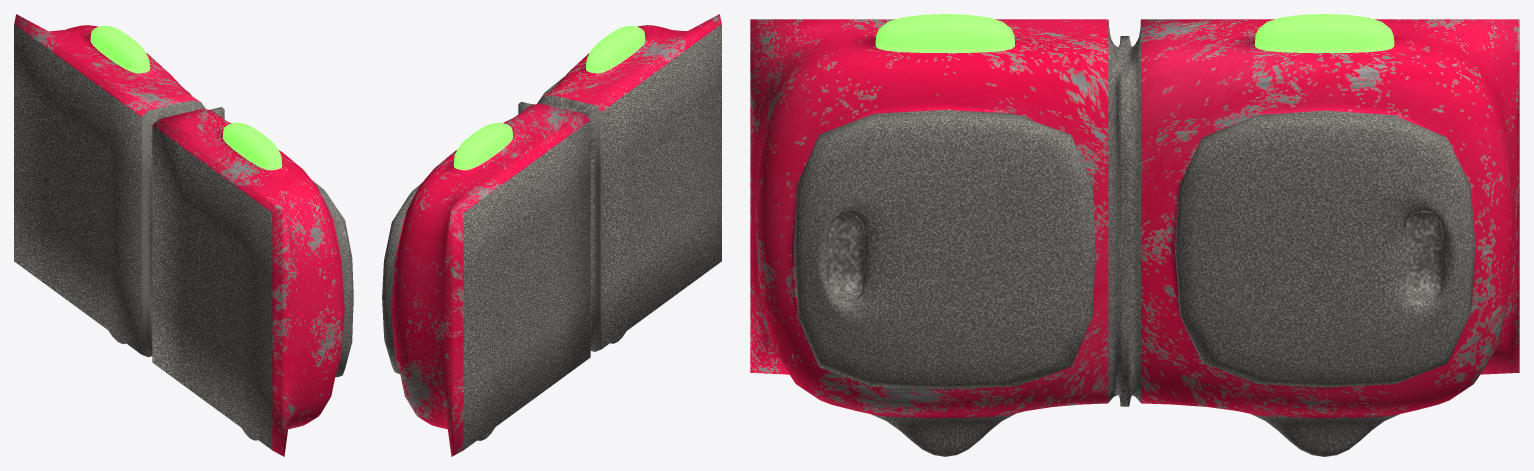
File: Bateria_Grande.fbx
3 renders of one model, left to right at view 1: azimuth 30°, elevation 25°; view 2: azimuth 150°, elevation 25°; view 3: azimuth 270°, elevation 25°, orthographic. The views are drawn at different scales.
Visible parts, largest first — view 1: Bateria_fuerte.002; view 2: Bateria_fuerte.002; view 3: Bateria_fuerte.002.
Part boxes in pixels (x1,y1,x2,y2): Bateria_fuerte.002: (14,14,353,456); Bateria_fuerte.002: (382,14,721,456); Bateria_fuerte.002: (750,14,1519,456).
Size of the model in its own units: 36.04 by 106 by 168.
